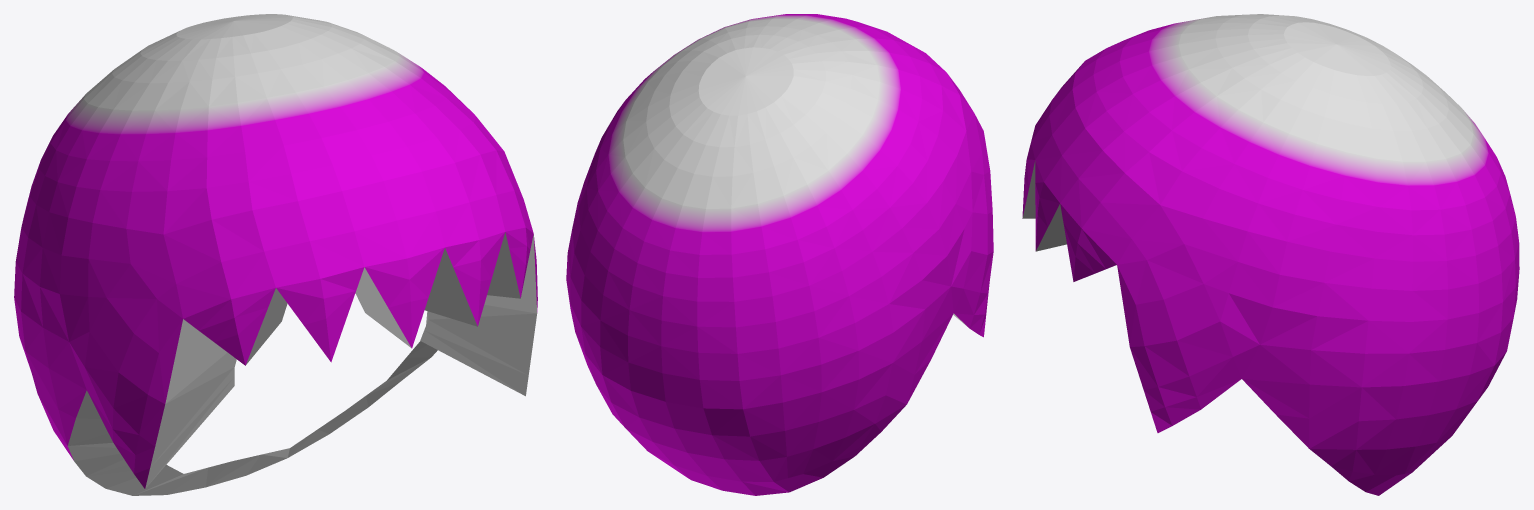
The model's file is hair_41.glb.
3 views of the same model, side by side, from view 1: azimuth 30°, elevation 25°; view 2: azimuth 150°, elevation 25°; view 3: azimuth 270°, elevation 25° (orthographic). The views are drawn at different scales.
Visible parts, largest first — view 1: shape; view 2: shape; view 3: shape.
Boxes of the visible parts, bbox=[...] form: shape: bbox=[14, 14, 537, 495]; shape: bbox=[566, 14, 993, 495]; shape: bbox=[1022, 14, 1519, 495].
Bounding box in the file's own units: 55.11 × 62.33 × 63.77.
